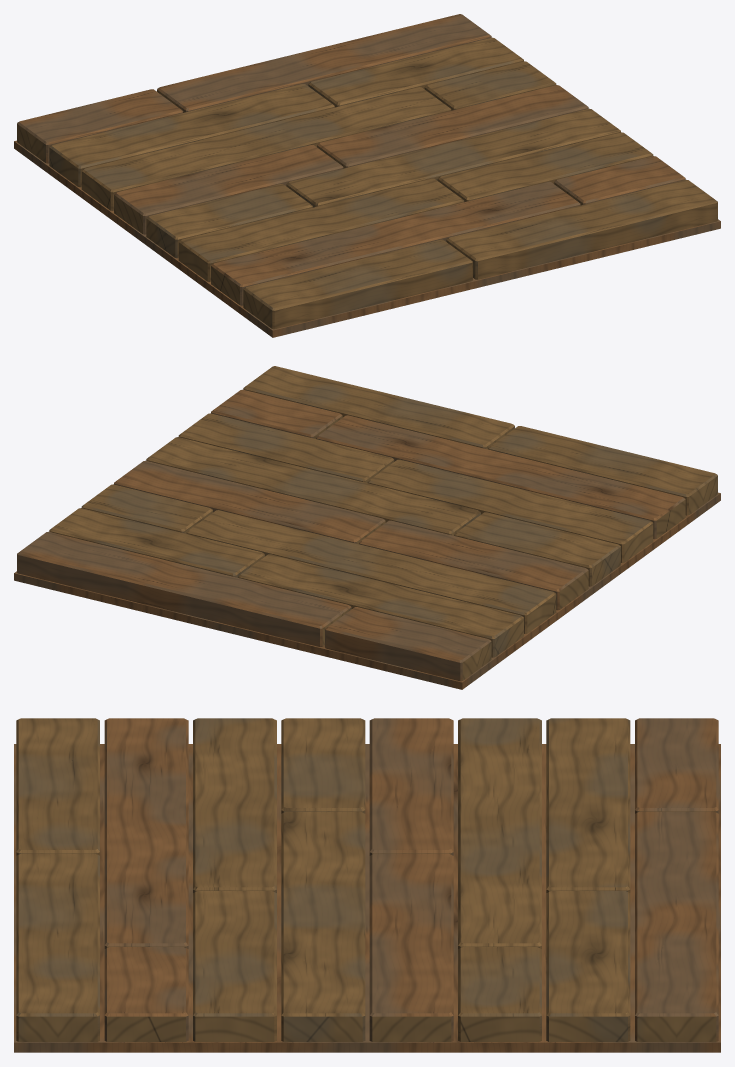
The model's file is b01_floor_a.fbx.
3 views of the same model, one above another, from view 1: azimuth 30°, elevation 25°; view 2: azimuth 150°, elevation 25°; view 3: azimuth 270°, elevation 25° (orthographic). The views are drawn at different scales.
Parts seen in each view (by area): view 1: b01_floor_a; view 2: b01_floor_a; view 3: b01_floor_a.
Part boxes in pixels (x1,y1,x2,y2): b01_floor_a: [14, 14, 720, 337]; b01_floor_a: [14, 366, 720, 689]; b01_floor_a: [14, 718, 720, 1052].
Size of the model in its own units: 25600 by 25600 by 1500.
